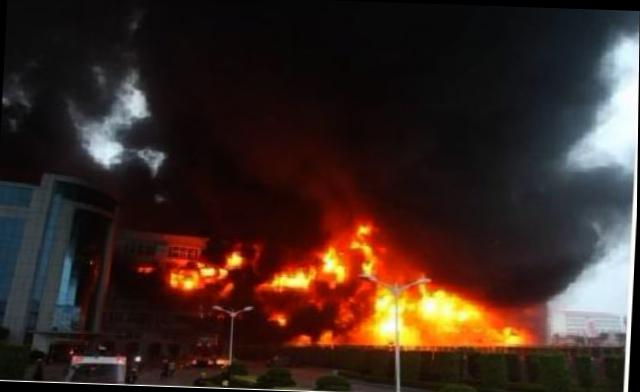fire: (370, 285, 483, 344), (338, 279, 369, 341), (351, 220, 379, 272), (479, 319, 528, 343), (165, 264, 212, 289), (320, 244, 347, 284), (270, 264, 313, 285), (222, 244, 246, 267), (200, 263, 226, 282)
smoke: (142, 0, 639, 224), (0, 0, 149, 171), (393, 218, 620, 257), (430, 254, 621, 289), (129, 205, 338, 234)
